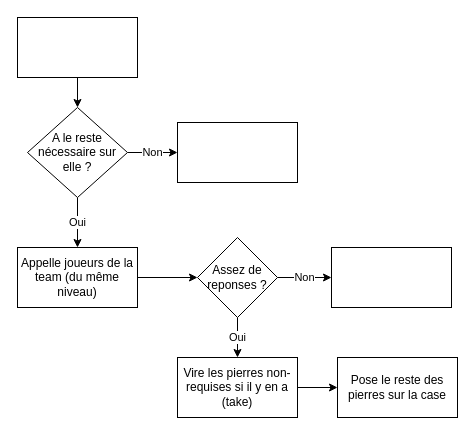
The diagram is 475 pixels wide and 435 high, and some of its shapes have lost their labels. Here are the shapes that lost their labels. From the top down, the box of each, then its label:
(16, 16, 138, 78): marche sur une pierre dont elle a besoin pour lvl up
(176, 122, 298, 182): Continue de chercher
(330, 246, 452, 308): Retourne ramasser des ressources en attendant que qlqu'un redemande
